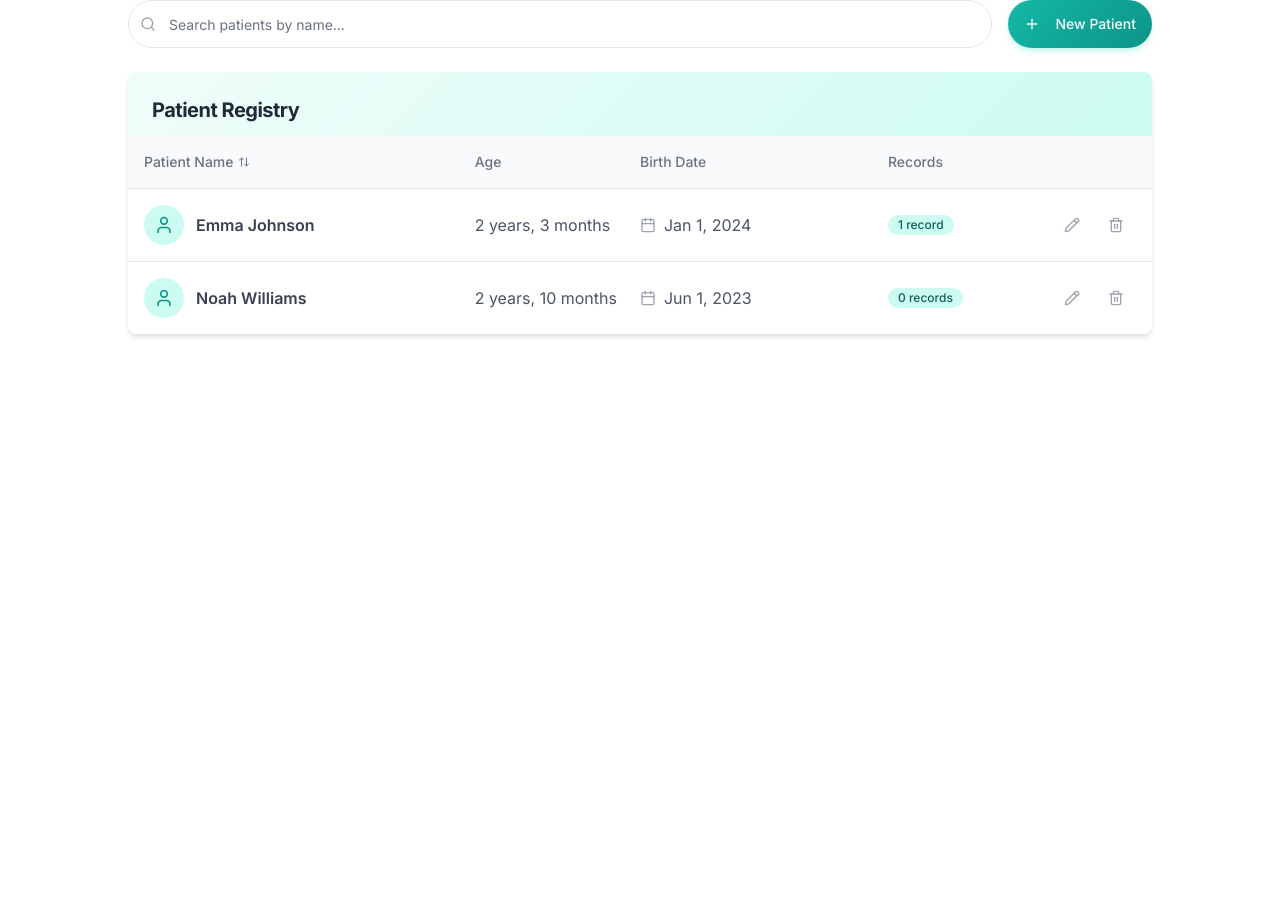
PatientList — edit and delete actions › closes delete dialog without calling deletePatient when Cancel is clicked
This screenshot has width=1280, height=900.
Click the 3rd button at (1116, 225), box [1096, 205, 1136, 245]
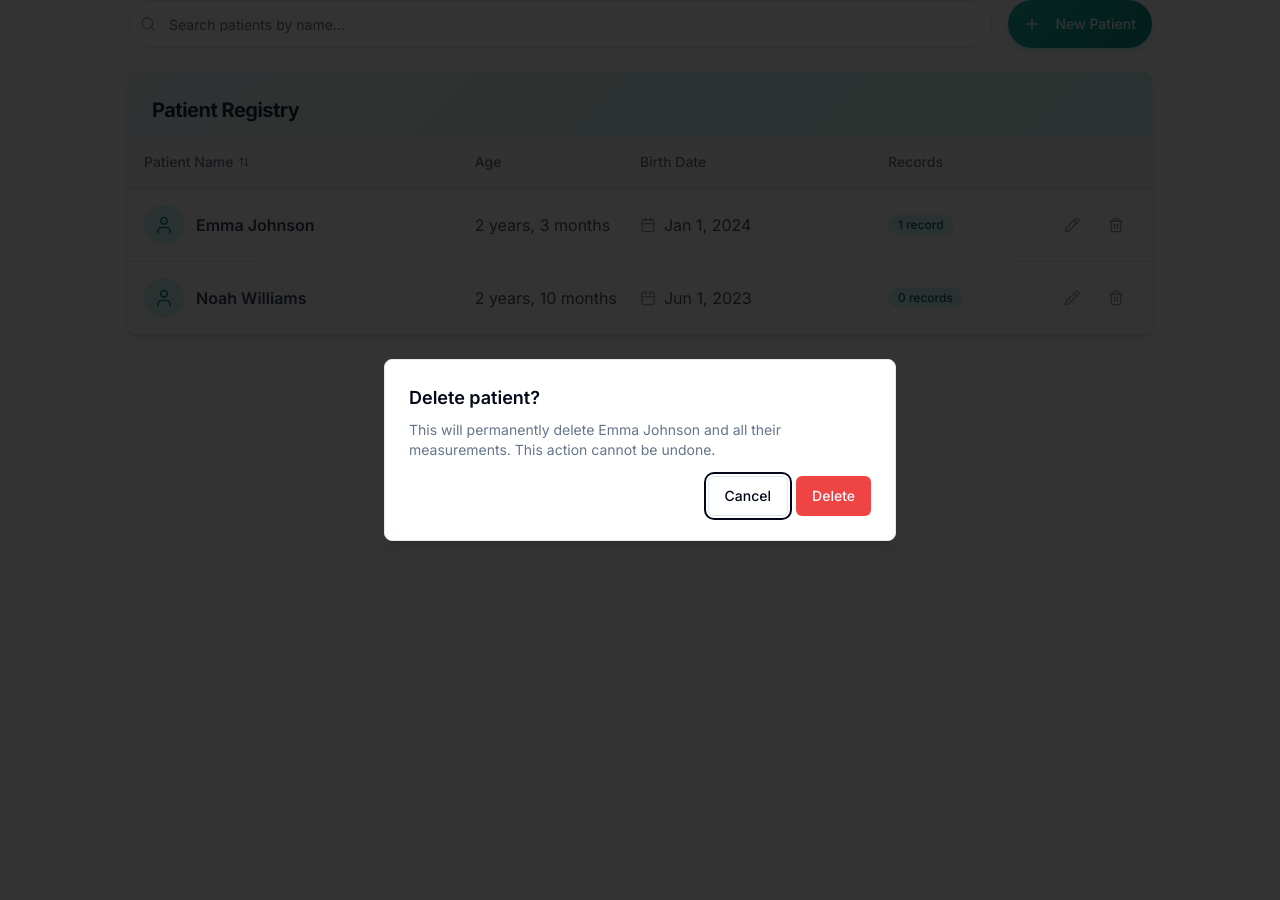
Click the button "Cancel" at (748, 496), box [708, 476, 788, 516]
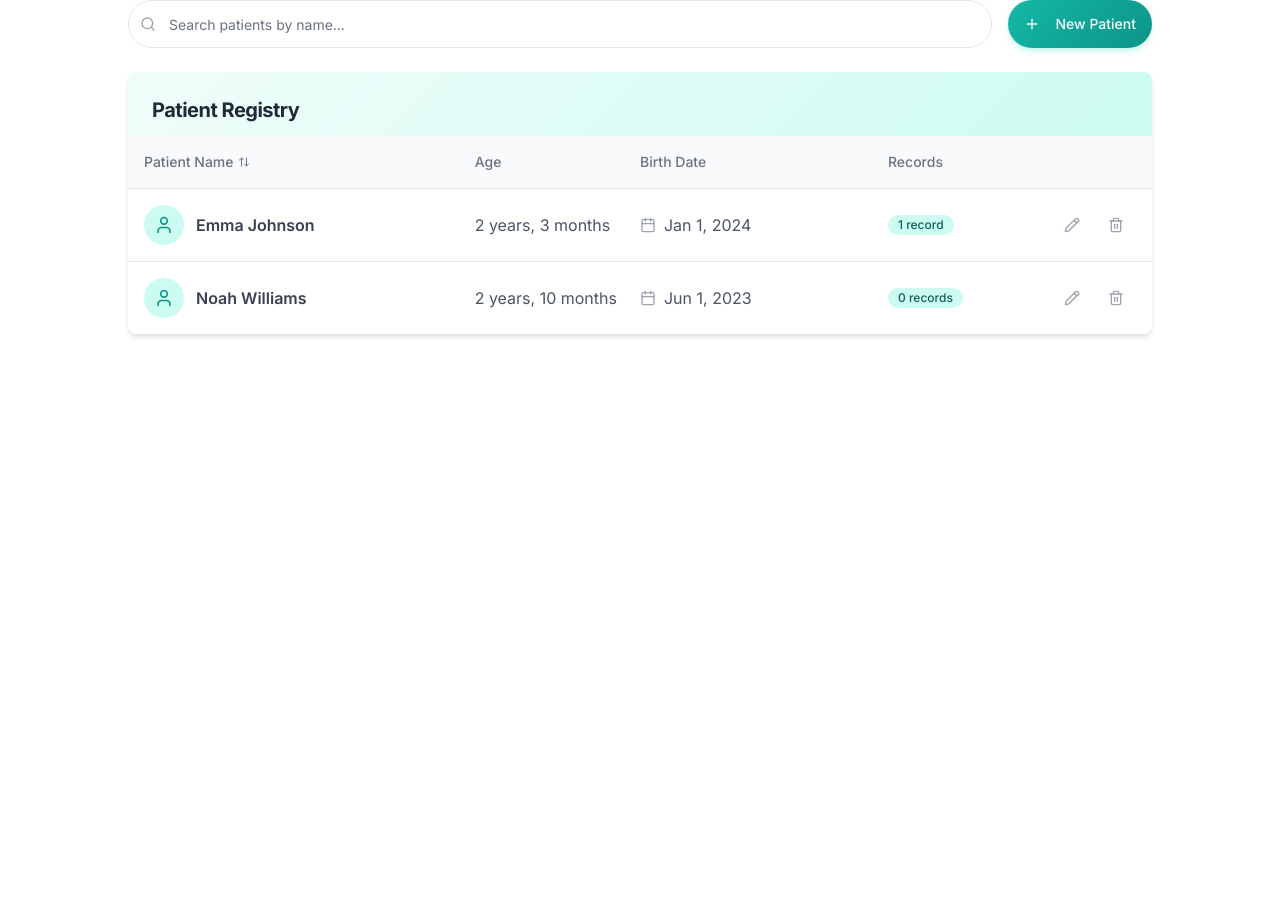
Result: the heading "Delete patient?" is gone
